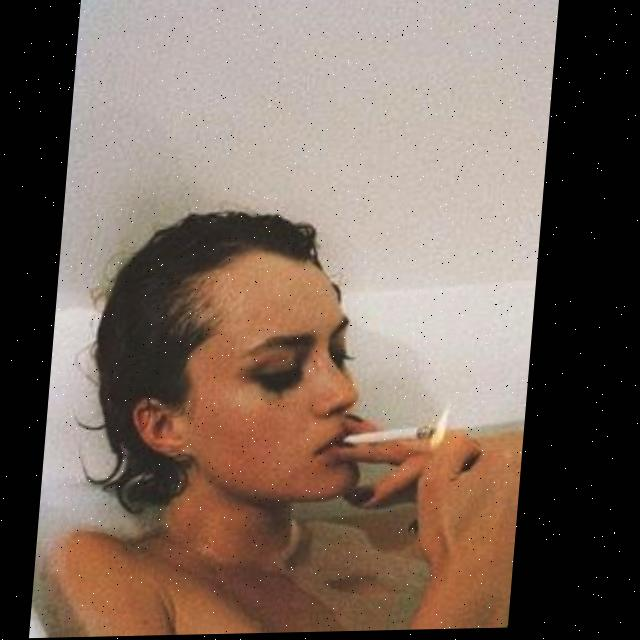cigarette: (350, 428, 441, 449)
